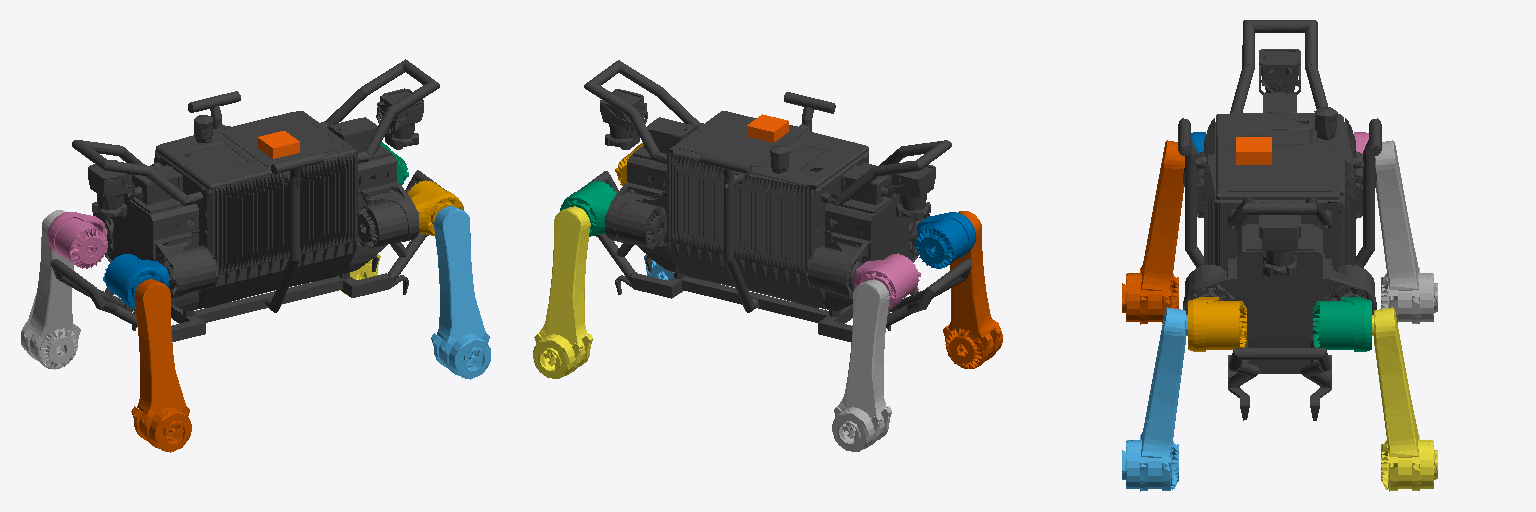
--- Render facts (derived) ---
Views: 3 orthographic renders of the robot side by side, from view 1: azimuth 30°, elevation 25°; view 2: azimuth 150°, elevation 25°; view 3: azimuth 270°, elevation 25°.
Robot: anymal — 27 links, 26 joints (12 revolute, 14 fixed); root link base; default pose: all joints at 0.
Visible links, largest first — view 1: base, RH_THIGH, RF_THIGH, LH_THIGH, LH_HIP, RH_HIP, RF_HIP, imu_link; view 2: base, LH_THIGH, LF_THIGH, RH_THIGH, RH_HIP, LH_HIP, LF_HIP, imu_link; view 3: base, LF_THIGH, RF_THIGH, LH_THIGH, RH_THIGH, LF_HIP, RF_HIP, imu_link.
Link boxes in pixels (x1,y1,x2,y2): base: (51,59,446,341); RH_THIGH: (131,279,191,452); RF_THIGH: (431,206,490,379); LH_THIGH: (21,210,80,369); LH_HIP: (47,212,107,268); RH_HIP: (103,253,168,308); RF_HIP: (408,180,463,235); imu_link: (258,131,299,158); base: (578,60,971,341); LH_THIGH: (832,279,891,451); LF_THIGH: (533,206,592,378); RH_THIGH: (943,211,1002,368); RH_HIP: (916,212,975,268); LH_HIP: (854,253,920,309); LF_HIP: (560,181,616,236); imu_link: (747,114,788,142); base: (1178,20,1381,420); LF_THIGH: (1372,307,1437,491); RF_THIGH: (1122,307,1187,491); LH_THIGH: (1375,140,1437,323); RH_THIGH: (1122,140,1184,324); LF_HIP: (1313,297,1371,351); RF_HIP: (1188,297,1246,351); imu_link: (1236,137,1271,164).
Size in the robot's own frame: 0.7961 by 0.5152 by 0.5261 metres.
9 mesh visuals loaded from 8 distinct referenced files (3 Collada DAE); not drawn: 8 (reference not matched to a file when rendering).

The robot description file, URDF, robot "anymal":
<?xml version="1.0" ?>
<!-- =================================================================================== -->
<!-- |    This document was autogenerated by xacro from [local-path]/catkin_ws/src/anymal_beth/anymal_beth_description/urdf/anymal_beth.urdf.xacro | -->
<!-- |    EDITING THIS FILE BY HAND IS NOT RECOMMENDED                                 | -->
<!-- =================================================================================== -->
<!--Copyright (C) 2015 by Dario Bellicoso                                    -->
<[email redacted]                                                 -->
<!--                                                                         -->
<!--This program is free software; you can redistribute it and/or modify     -->
<!--it under the terms of the Lesser GNU General Public License as published -->
<!--by the Free Software Foundation; either version 3 of the License, or     -->
<!--(at your option) any later version.                                      -->
<!--                                                                         -->
<!--This program is distributed in the hope that it will be useful,          -->
<!--but WITHOUT ANY WARRANTY; without even the implied warranty of           -->
<!--MERCHANTABILITY or FITNESS FOR A PARTICULAR PURPOSE. See the             -->
<!--Lesser GNU General Public License for more details.                      -->
<!--                                                                         -->
<!--You should have received a copy of the Lesser GNU General Public License -->
<!--along with this program. If not, see <http://www.gnu.org/licenses/>.     -->
<!-- This file contains the description of the ANYmal Beth robot. -->
<robot name="anymal" xmlns:xacro="http://www.ros.org/wiki/xacro">
    <material name="black">
        <color rgba="0.0 0.0 0.0 1.0"/>
    </material>
    <material name="blue">
        <color rgba="0.0 0.0 0.8 1.0"/>
    </material>
    <material name="green">
        <color rgba="0.0 0.8 0.0 1.0"/>
    </material>
    <material name="grey">
        <color rgba="0.2 0.2 0.2 1.0"/>
    </material>
    <material name="light_grey">
        <color rgba="0.4 0.4 0.4 1.0"/>
    </material>
    <material name="orange">
        <color rgba="1.0 0.423529411765 0.0392156862745 1.0"/>
    </material>
    <material name="brown">
        <color rgba="0.870588235294 0.811764705882 0.764705882353 1.0"/>
    </material>
    <material name="red">
        <color rgba="0.8 0.0 0.0 1.0"/>
    </material>
    <material name="white">
        <color rgba="1.0 1.0 1.0 1.0"/>
    </material>
    <gazebo>
        <plugin filename="libanymal_gazebo.so" name="gazebo_ros_control">
            <robotNamespace>anymal</robotNamespace>
            <!-- Currently unused -->
            <robotDescription>quadruped_description</robotDescription>
            <robotBaseLink>base</robotBaseLink>
            <statePublisherRate>400.0</statePublisherRate>
        </plugin>
    </gazebo>
    <!-- Material for the visual primitives -->
    <material name="anymal_material">
        <color rgba="0.3 0.3 0.3 0"/>
    </material>
    <!-- Xacro:Properties -->
    <!-- [m] -->
    <!-- Base link -->
    <link name="base">
        <visual>
            <origin rpy="0 0 0" xyz="0 0 0"/>
            <geometry>
                <mesh filename="anymal_base_2.dae" scale="0.001 0.001     0.001"/>
            </geometry>
            <material name="anymal_material"/>
        </visual>
        <collision>
            <!-- Main Body -->
            <origin rpy="0 0 0" xyz="0 0 0.08"/>
            <geometry>
                <box size="0.531 0.232 0.26"/>
            </geometry>
        </collision>
    </link>
    <!-- Fixed joint to add dummy inertia link -->
    <joint name="base_to_base_inertia" type="fixed">
        <parent link="base"/>
        <child link="base_inertia"/>
        <origin rpy="0 0 0" xyz="0 0 0"/>
    </joint>
    <!-- Dummy inertia link, because KDL cannot have inertia on the base link -->
    <link name="base_inertia">
        <inertial>
            <origin rpy="0 0 0" xyz="0.022 -0.01 0.01"/>
            <mass value="21.39"/>
            <inertia ixx="0.268388530624" ixy="0.000775392455422" ixz="-0.0151848534451" iyy="0.884235660795" iyz="-0.000989297489507" izz="0.829158678306"/>
        </inertial>
    </link>
    <!-- Xacro:Properties -->
    <!-- [m] -->
    <!-- [Nm] -->
    <link name="LF_HIP">
        <visual>
            <origin rpy="3.14159265359 1.5707963268 3.14159265359" xyz="0 0 0"/>
            <geometry>
                <mesh filename="anymal_hip.dae" scale="0.001 0.001     0.001"/>
            </geometry>
        </visual>
        <collision>
            <origin rpy="1.57079632679 0 0" xyz="0.0585 0.0315 0.0"/>
            <geometry>
                <cylinder length="0.08" radius="0.04"/>
            </geometry>
        </collision>
        <inertial>
            <origin rpy="0 0 0" xyz="0.0542 -0.0136 0.0"/>
            <mass value="1.1064"/>
            <inertia ixx="0.00123301508523" ixy="-6.4285329973e-05" ixz="6.9990104e-08" iyy="0.000993231183395" iyz="2.327401345e-06" izz="0.00142160349098"/>
        </inertial>
    </link>
    <!-- Hip joint -->
    <joint name="LF_HAA" type="revolute">
        <parent link="base"/>
        <child link="LF_HIP"/>
        <origin xyz="0.2629 0.115 0.0"/>
        <axis xyz="1 0 0"/>
        <limit effort="80" lower="-6.28" upper="6.28" velocity="15"/>
        <dynamics damping="0.0" friction="0.0"/>
    </joint>
    <!-- Xacro:Properties -->
    <!-- [m] -->
    <!-- [Nm] -->
    <link name="LF_THIGH">
        <visual>
            <origin rpy="0 0 0" xyz="0 0 0"/>
            <geometry>
                <mesh filename="anymal_thigh.dae" scale="0.001 0.001     0.001"/>
            </geometry>
        </visual>
        <!--collision>
            <origin rpy="0.145 0 0" xyz="0 0.02 -0.1"/>
            <geometry>
                <cylinder length="0.2" radius="0.01"/>
            </geometry>
        </collision-->
        <collision>
            <origin rpy="1.57079632679 0 0" xyz="0.0 0.07 -0.25"/>
            <geometry>
                <cylinder length="0.08" radius="0.04"/>
            </geometry>
        </collision>
        <inertial>
            <origin rpy="0 0 0" xyz="0.0008 0.0545 -0.1975"/>
            <mass value="1.51"/>
            <inertia ixx="0.0147571628275" ixy="-1.7996507882e-05" ixz="0.000205877679383" iyy="0.0144188925719" iyz="-0.00181291342366" izz="0.00178449075964"/>
        </inertial>
    </link>
    <!-- Thigh joint -->
    <joint name="LF_HFE" type="revolute">
        <parent link="LF_HIP"/>
        <child link="LF_THIGH"/>
        <origin xyz="0.0585                    0.0315                    0.0"/>
        <axis xyz="0 1 0"/>
        <limit effort="80" lower="-6.28" upper="6.28" velocity="15"/>
        <dynamics damping="0.0" friction="0.0"/>
    </joint>
    <!-- Xacro:Properties -->
    <!-- [m] -->
    <!-- [Nm] -->
    <link name="LF_SHANK">
        <visual>
            <origin rpy="0 0 0.0" xyz="0 0 0"/>
            <geometry>
                <mesh filename="anymal_shank_2_LF.dae" scale="0.001 0.001     0.001"/>
            </geometry>
        </visual>
        <!--collision>
            <origin rpy="0 -0.9 -0.2" xyz="0.04 -0.02 -0.04"/>
            <geometry>
                <cylinder length="0.13" radius="0.015"/>
            </geometry>
        </collision-->
        <collision>
            <origin rpy="-0.0 0.34 0" xyz="0.06 -0.03 -0.18"/>
            <geometry>
                <cylinder length="0.19" radius="0.015"/>
            </geometry>
        </collision>
        <inertial>
            <origin rpy="0 0 0" xyz="0.016355414056 -0.00562219106 -0.064350437219"/>
            <mass value="0.318"/>
            <inertia ixx="0.0037693717909" ixy="-7.7334500762e-05" ixz="-0.000152069372983" iyy="0.00400446467635" iyz="-0.0003218356083" izz="0.000418471691904"/>
        </inertial>
    </link>
    <!-- Shank joint -->
    <joint name="LF_KFE" type="revolute">
        <parent link="LF_THIGH"/>
        <child link="LF_SHANK"/>
        <origin xyz="0.0 0.111 -0.25"/>
        <axis xyz="0 1 0"/>
        <limit effort="80" lower="-6.28" upper="6.28" velocity="15"/>
        <dynamics damping="0.0" friction="0.0"/>
    </joint>
    <!-- Foot mount link -->
    <link name="LF_FOOT_MOUNT"/>
    <!-- Foot mount joint / ankle -->
    <joint name="LF_ANKLE_JOINT" type="fixed">
        <parent link="LF_SHANK"/>
        <child link="LF_FOOT_MOUNT"/>
        <origin rpy="0.323 0.549 0" xyz="0.0 -0.016 -0.31"/>
    </joint>
    <!-- Xacro:Properties -->
    <!-- [m] -->
    <link name="LF_FOOT_SENSOR">
        <visual>
            <origin rpy="0 0 0" xyz="0 0 0"/>
            <geometry>
                <mesh filename="anymal_optoforce.dae" scale="0.001 0.001     0.001"/>
            </geometry>
        </visual>
        <collision>
            <origin rpy="0 0 0" xyz="0.0 0.0 0"/>
            <geometry>
                <sphere radius="0.03"/>
            </geometry>
        </collision>
        <inertial>
            <origin rpy="0 0 0" xyz="-5.552058e-06 7.1133124e-05 -0.021388647779"/>
            <mass value="0.1922685"/>
            <inertia ixx="8.3086410294e-05" ixy="4.16901601e-07" ixz="3.99054799e-07" iyy="8.2860209667e-05" iyz="-3.45712252e-07" izz="8.1948124086e-05"/>
        </inertial>
    </link>
    <!-- Foot sensor joint -->
    <joint name="LF_MOUNT_TO_SENSOR" type="fixed">
        <parent link="LF_FOOT_MOUNT"/>
        <child link="LF_FOOT_SENSOR"/>
        <origin rpy="0 0 0" xyz="0 0 0"/>
    </joint>
    <!-- Gazebo customization -->
    <gazebo reference="LF_FOOT_SENSOR">
        <kp>1000000.0</kp>
        <kd>100.0</kd>
        <mu1>0.8</mu1>
        <mu2>0.8</mu2>
    </gazebo>
    <gazebo reference="LF_MOUNT_TO_SENSOR"/>
    <!-- Foot link -->
    <link name="LF_FOOT">
    </link>
    <!-- Foot joint -->
    <joint name="LF_SENSOR_TO_FOOT" type="fixed">
        <parent link="LF_FOOT_SENSOR"/>
        <child link="LF_FOOT"/>
        <origin rpy="0 0 0" xyz="0.0 0.0 -0.0385"/>
    </joint>
    <!-- Xacro:Properties -->
    <!-- [m] -->
    <!-- [Nm] -->
    <link name="RF_HIP">
        <visual>
            <origin rpy="0 -1.57079632679 3.14159265359" xyz="0 0 0"/>
            <geometry>
                <mesh filename="anymal_hip.dae" scale="0.001 0.001     0.001"/>
            </geometry>
        </visual>
        <collision>
            <origin rpy="1.57079632679 0 0" xyz="0.0585 -0.0315 0.0"/>
            <geometry>
                <cylinder length="0.08" radius="0.04"/>
            </geometry>
        </collision>
        <inertial>
            <origin rpy="0 0 0" xyz="0.0542 0.0136 0.0"/>
            <mass value="1.1064"/>
            <inertia ixx="0.00123301508523" ixy="6.4285329973e-05" ixz="6.9990104e-08" iyy="0.000993231183395" iyz="-2.327401345e-06" izz="0.00142160349098"/>
        </inertial>
    </link>
    <!-- Hip joint -->
    <joint name="RF_HAA" type="revolute">
        <parent link="base"/>
        <child link="RF_HIP"/>
        <origin xyz="0.2629 -0.115 0.0"/>
        <axis xyz="1 0 0"/>
        <limit effort="80" lower="-6.28" upper="6.28" velocity="15"/>
        <dynamics damping="0.0" friction="0.0"/>
    </joint>
    <!-- Xacro:Properties -->
    <!-- [m] -->
    <!-- [Nm] -->
    <link name="RF_THIGH">
        <visual>
            <origin rpy="0 0 3.14159265359" xyz="0 0 0"/>
            <geometry>
                <mesh filename="anymal_thigh.dae" scale="0.001 0.001     0.001"/>
            </geometry>
        </visual>
        <!--collision>
            <origin rpy="-0.145 0 0" xyz="0 -0.02 -0.1"/>
            <geometry>
                <cylinder length="0.2" radius="0.01"/>
            </geometry>
        </collision-->
        <collision>
            <origin rpy="1.57079632679 0 0" xyz="0.0 -0.07 -0.25"/>
            <geometry>
                <cylinder length="0.08" radius="0.04"/>
            </geometry>
        </collision>
        <inertial>
            <origin rpy="0 0 0" xyz="0.0008 -0.0545 -0.1975"/>
            <mass value="1.51"/>
            <inertia ixx="0.0147571628275" ixy="1.7996507882e-05" ixz="0.000205877679383" iyy="0.0144188925719" iyz="0.00181291342366" izz="0.00178449075964"/>
        </inertial>
    </link>
    <!-- Thigh joint -->
    <joint name="RF_HFE" type="revolute">
        <parent link="RF_HIP"/>
        <child link="RF_THIGH"/>
        <origin xyz="0.0585                    -0.0315                    0.0"/>
        <axis xyz="0 1 0"/>
        <limit effort="80" lower="-6.28" upper="6.28" velocity="15"/>
        <dynamics damping="0.0" friction="0.0"/>
    </joint>
    <!-- Xacro:Properties -->
    <!-- [m] -->
    <!-- [Nm] -->
    <link name="RF_SHANK">
        <visual>
            <origin rpy="3.14159265359 3.14159265359 3.14159265359" xyz="0 0 0"/>
            <geometry>
                <mesh filename="anymal_shank_2_RF.dae" scale="0.001 0.001     0.001"/>
            </geometry>
        </visual>
        <!--collision>
            <origin rpy="0 -0.9 0.2" xyz="0.04 0.02 -0.04"/>
            <geometry>
                <cylinder length="0.13" radius="0.015"/>
            </geometry>
        </collision-->
        <collision>
            <origin rpy="0.0 0.34 0" xyz="0.06 0.03 -0.18"/>
            <geometry>
                <cylinder length="0.19" radius="0.015"/>
            </geometry>
        </collision>
        <inertial>
            <origin rpy="0 0 0" xyz="0.016355414056 0.00562219106 -0.064350437219"/>
            <mass value="0.318"/>
            <inertia ixx="0.0037693717909" ixy="7.7334500762e-05" ixz="-0.000152069372983" iyy="0.00400446467635" iyz="0.0003218356083" izz="0.000418471691904"/>
        </inertial>
    </link>
    <!-- Shank joint -->
    <joint name="RF_KFE" type="revolute">
        <parent link="RF_THIGH"/>
        <child link="RF_SHANK"/>
        <origin xyz="0.0 -0.111 -0.25"/>
        <axis xyz="0 1 0"/>
        <limit effort="80" lower="-6.28" upper="6.28" velocity="15"/>
        <dynamics damping="0.0" friction="0.0"/>
    </joint>
    <!-- Foot mount link -->
    <link name="RF_FOOT_MOUNT"/>
    <!-- Foot mount joint / ankle -->
    <joint name="RF_ANKLE_JOINT" type="fixed">
        <parent link="RF_SHANK"/>
        <child link="RF_FOOT_MOUNT"/>
        <origin rpy="-0.323 0.549 0" xyz="0.0 0.016 -0.31"/>
    </joint>
    <!-- Xacro:Properties -->
    <!-- [m] -->
    <link name="RF_FOOT_SENSOR">
        <visual>
            <origin rpy="0 0 0" xyz="0 0 0"/>
            <geometry>
                <mesh filename="anymal_optoforce.dae" scale="0.001 0.001     0.001"/>
            </geometry>
        </visual>
        <collision>
            <origin rpy="0 0 0" xyz="0.0 0.0 0"/>
            <geometry>
                <sphere radius="0.03"/>
            </geometry>
        </collision>
        <inertial>
            <origin rpy="0 0 0" xyz="-5.552058e-06 -7.1133124e-05 -0.021388647779"/>
            <mass value="0.1922685"/>
            <inertia ixx="8.3086410294e-05" ixy="-4.16901601e-07" ixz="3.99054799e-07" iyy="8.2860209667e-05" iyz="3.45712252e-07" izz="8.1948124086e-05"/>
        </inertial>
    </link>
    <!-- Foot sensor joint -->
    <joint name="RF_MOUNT_TO_SENSOR" type="fixed">
        <parent link="RF_FOOT_MOUNT"/>
        <child link="RF_FOOT_SENSOR"/>
        <origin rpy="0 0 0" xyz="0 0 0"/>
    </joint>
    <!-- Gazebo customization -->
    <gazebo reference="RF_FOOT_SENSOR">
        <kp>1000000.0</kp>
        <kd>100.0</kd>
        <mu1>0.8</mu1>
        <mu2>0.8</mu2>
    </gazebo>
    <gazebo reference="RF_MOUNT_TO_SENSOR"/>
    <!-- Foot link -->
    <link name="RF_FOOT">
    </link>
    <!-- Foot joint -->
    <joint name="RF_SENSOR_TO_FOOT" type="fixed">
        <parent link="RF_FOOT_SENSOR"/>
        <child link="RF_FOOT"/>
        <origin rpy="0 0 0" xyz="0.0 0.0 -0.0385"/>
    </joint>
    <!-- Xacro:Properties -->
    <!-- [m] -->
    <!-- [Nm] -->
    <link name="LH_HIP">
        <visual>
            <origin rpy="0 -1.5707963268 0" xyz="0 0 0"/>
            <geometry>
                <mesh filename="anymal_hip.dae" scale="0.001 0.001     0.001"/>
            </geometry>
        </visual>
        <collision>
            <origin rpy="-1.57079632679 0 0" xyz="-0.0585 0.0315 0.0"/>
            <geometry>
                <cylinder length="0.08" radius="0.04"/>
            </geometry>
        </collision>
        <inertial>
            <origin rpy="0 0 0" xyz="-0.0542 -0.0136 0.0"/>
            <mass value="1.1064"/>
            <inertia ixx="0.00123301508523" ixy="6.4285329973e-05" ixz="-6.9990104e-08" iyy="0.000993231183395" iyz="2.327401345e-06" izz="0.00142160349098"/>
        </inertial>
    </link>
    <!-- Hip joint -->
    <joint name="LH_HAA" type="revolute">
        <parent link="base"/>
        <child link="LH_HIP"/>
        <origin xyz="-0.2629 0.115 0.0"/>
        <axis xyz="1 0 0"/>
        <limit effort="80" lower="-6.28" upper="6.28" velocity="15"/>
        <dynamics damping="0.0" friction="0.0"/>
    </joint>
    <!-- Xacro:Properties -->
    <!-- [m] -->
    <!-- [Nm] -->
    <link name="LH_THIGH">
        <visual>
            <origin rpy="0 0 0" xyz="0 0 0"/>
            <geometry>
                <mesh filename="anymal_thigh.dae" scale="0.001 0.001     0.001"/>
            </geometry>
        </visual>
        <!--collision>
            <origin rpy="0.145 0 0" xyz="0 0.02 -0.1"/>
            <geometry>
                <cylinder length="0.2" radius="0.01"/>
            </geometry>
        </collision-->
        <collision>
            <origin rpy="1.57079632679 0 0" xyz="0.0 0.07 -0.25"/>
            <geometry>
                <cylinder length="0.08" radius="0.04"/>
            </geometry>
        </collision>
        <inertial>
            <origin rpy="0 0 0" xyz="-0.0008 0.0545 -0.1975"/>
            <mass value="1.51"/>
            <inertia ixx="0.0147571628275" ixy="1.7996507882e-05" ixz="-0.000205877679383" iyy="0.0144188925719" iyz="-0.00181291342366" izz="0.00178449075964"/>
        </inertial>
    </link>
    <!-- Thigh joint -->
    <joint name="LH_HFE" type="revolute">
        <parent link="LH_HIP"/>
        <child link="LH_THIGH"/>
        <origin xyz="-0.0585                    0.0315                    0.0"/>
        <axis xyz="0 1 0"/>
        <limit effort="80" lower="-6.28" upper="6.28" velocity="15"/>
        <dynamics damping="0.0" friction="0.0"/>
    </joint>
    <!-- Xacro:Properties -->
    <!-- [m] -->
    <!-- [Nm] -->
    <link name="LH_SHANK">
        <visual>
            <origin rpy="0 0 0" xyz="0 0 0"/>
            <geometry>
                <mesh filename="anymal_shank_2_LH.dae" scale="0.001 0.001     0.001"/>
            </geometry>
        </visual>
        <!--collision>
            <origin rpy="0 0.9 0.2" xyz="-0.04 -0.02 -0.04"/>
            <geometry>
                <cylinder length="0.13" radius="0.015"/>
            </geometry>
        </collision-->
        <collision>
            <origin rpy="-0.0 -0.34 0" xyz="-0.06 -0.03 -0.18"/>
            <geometry>
                <cylinder length="0.19" radius="0.015"/>
            </geometry>
        </collision>
        <inertial>
            <origin rpy="0 0 0" xyz="-0.016355414056 -0.00562219106 -0.064350437219"/>
            <mass value="0.318"/>
            <inertia ixx="0.0037693717909" ixy="7.7334500762e-05" ixz="0.000152069372983" iyy="0.00400446467635" iyz="-0.0003218356083" izz="0.000418471691904"/>
        </inertial>
    </link>
    <!-- Shank joint -->
    <joint name="LH_KFE" type="revolute">
        <parent link="LH_THIGH"/>
        <child link="LH_SHANK"/>
        <origin xyz="-0.0 0.111 -0.25"/>
        <axis xyz="0 1 0"/>
        <limit effort="80" lower="-6.28" upper="6.28" velocity="15"/>
        <dynamics damping="0.0" friction="0.0"/>
    </joint>
    <!-- Foot mount link -->
    <link name="LH_FOOT_MOUNT"/>
    <!-- Foot mount joint / ankle -->
    <joint name="LH_ANKLE_JOINT" type="fixed">
        <parent link="LH_SHANK"/>
        <child link="LH_FOOT_MOUNT"/>
        <origin rpy="0.323 -0.549 0" xyz="-0.0 -0.016 -0.31"/>
    </joint>
    <!-- Xacro:Properties -->
    <!-- [m] -->
    <link name="LH_FOOT_SENSOR">
        <visual>
            <origin rpy="0 0 0" xyz="0 0 0"/>
            <geometry>
                <mesh filename="anymal_optoforce.dae" scale="0.001 0.001     0.001"/>
            </geometry>
        </visual>
        <collision>
            <origin rpy="0 0 0" xyz="0.0 0.0 0"/>
            <geometry>
                <sphere radius="0.03"/>
            </geometry>
        </collision>
        <inertial>
            <origin rpy="0 0 0" xyz="5.552058e-06 7.1133124e-05 -0.021388647779"/>
            <mass value="0.1922685"/>
            <inertia ixx="8.3086410294e-05" ixy="-4.16901601e-07" ixz="-3.99054799e-07" iyy="8.2860209667e-05" iyz="-3.45712252e-07" izz="8.1948124086e-05"/>
        </inertial>
    </link>
    <!-- Foot sensor joint -->
    <joint name="LH_MOUNT_TO_SENSOR" type="fixed">
        <parent link="LH_FOOT_MOUNT"/>
        <child link="LH_FOOT_SENSOR"/>
        <origin rpy="0 0 0" xyz="0 0 0"/>
    </joint>
    <!-- Gazebo customization -->
    <gazebo reference="LH_FOOT_SENSOR">
        <kp>1000000.0</kp>
        <kd>100.0</kd>
        <mu1>0.8</mu1>
        <mu2>0.8</mu2>
    </gazebo>
    <gazebo reference="LH_MOUNT_TO_SENSOR"/>
    <!-- Foot link -->
    <link name="LH_FOOT">
    </link>
    <!-- Foot joint -->
    <joint name="LH_SENSOR_TO_FOOT" type="fixed">
        <parent link="LH_FOOT_SENSOR"/>
        <child link="LH_FOOT"/>
        <origin rpy="0 0 0" xyz="0.0 0.0 -0.0385"/>
    </joint>
    <!-- Xacro:Properties -->
    <!-- [m] -->
    <!-- [Nm] -->
    <link name="RH_HIP">
        <visual>
            <origin rpy="1.5707963268 1.5707963268 -1.5707963268" xyz="0 0 0"/>
            <geometry>
                <mesh filename="anymal_hip.dae" scale="0.001 0.001     0.001"/>
            </geometry>
        </visual>
        <collision>
            <origin rpy="-1.57079632679 0 0" xyz="-0.0585 -0.0315 0.0"/>
            <geometry>
                <cylinder length="0.08" radius="0.04"/>
            </geometry>
        </collision>
        <inertial>
            <origin rpy="0 0 0" xyz="-0.0542 0.0136 0.0"/>
            <mass value="1.1064"/>
            <inertia ixx="0.00123301508523" ixy="-6.4285329973e-05" ixz="-6.9990104e-08" iyy="0.000993231183395" iyz="-2.327401345e-06" izz="0.00142160349098"/>
        </inertial>
    </link>
    <!-- Hip joint -->
    <joint name="RH_HAA" type="revolute">
        <parent link="base"/>
        <child link="RH_HIP"/>
        <origin xyz="-0.2629 -0.115 0.0"/>
        <axis xyz="1 0 0"/>
        <limit effort="80" lower="-6.28" upper="6.28" velocity="15"/>
        <dynamics damping="0.0" friction="0.0"/>
    </joint>
    <!-- Xacro:Properties -->
    <!-- [m] -->
    <!-- [Nm] -->
    <link name="RH_THIGH">
        <visual>
            <origin rpy="0 0 3.14159265359" xyz="0 0 0"/>
            <geometry>
                <mesh filename="anymal_thigh.dae" scale="0.001 0.001     0.001"/>
            </geometry>
        </visual>
        <!--collision>
            <origin rpy="-0.145 0 0" xyz="0 -0.02 -0.1"/>
            <geometry>
                <cylinder length="0.2" radius="0.01"/>
            </geometry>
        </collision-->
        <collision>
            <origin rpy="1.57079632679 0 0" xyz="0.0 -0.07 -0.25"/>
            <geometry>
                <cylinder length="0.08" radius="0.04"/>
            </geometry>
        </collision>
        <inertial>
            <origin rpy="0 0 0" xyz="-0.0008 -0.0545 -0.1975"/>
            <mass value="1.51"/>
            <inertia ixx="0.0147571628275" ixy="-1.7996507882e-05" ixz="-0.000205877679383" iyy="0.0144188925719" iyz="0.00181291342366" izz="0.00178449075964"/>
        </inertial>
    </link>
    <!-- Thigh joint -->
    <joint name="RH_HFE" type="revolute">
        <parent link="RH_HIP"/>
        <child link="RH_THIGH"/>
        <origin xyz="-0.0585                    -0.0315                    0.0"/>
        <axis xyz="0 1 0"/>
        <limit effort="80" lower="-6.28" upper="6.28" velocity="15"/>
        <dynamics damping="0.0" friction="0.0"/>
    </joint>
    <!-- Xacro:Properties -->
    <!-- [m] -->
    <!-- [Nm] -->
    <link name="RH_SHANK">
        <visual>
            <origin rpy="0 0 0" xyz="0 0 0"/>
            <geometry>
                <mesh filename="anymal_shank_2_RH.dae" scale="0.001 0.001     0.001"/>
            </geometry>
        </visual>
        <!--collision>
            <origin rpy="0 0.9 -0.2" xyz="-0.04 0.02 -0.04"/>
            <geometry>
                <cylinder length="0.13" radius="0.015"/>
            </geometry>
        </collision-->
        <collision>
            <origin rpy="0.0 -0.34 0" xyz="-0.06 0.03 -0.18"/>
            <geometry>
                <cylinder length="0.19" radius="0.015"/>
            </geometry>
        </collision>
        <inertial>
            <origin rpy="0 0 0" xyz="-0.016355414056 0.00562219106 -0.064350437219"/>
            <mass value="0.318"/>
            <inertia ixx="0.0037693717909" ixy="-7.7334500762e-05" ixz="0.000152069372983" iyy="0.00400446467635" iyz="0.0003218356083" izz="0.000418471691904"/>
        </inertial>
    </link>
    <!-- Shank joint -->
    <joint name="RH_KFE" type="revolute">
        <parent link="RH_THIGH"/>
        <child link="RH_SHANK"/>
        <origin xyz="-0.0 -0.111 -0.25"/>
        <axis xyz="0 1 0"/>
        <limit effort="80" lower="-6.28" upper="6.28" velocity="15"/>
        <dynamics damping="0.0" friction="0.0"/>
    </joint>
    <!-- Foot mount link -->
    <link name="RH_FOOT_MOUNT"/>
    <!-- Foot mount joint / ankle -->
    <joint name="RH_ANKLE_JOINT" type="fixed">
        <parent link="RH_SHANK"/>
        <child link="RH_FOOT_MOUNT"/>
        <origin rpy="-0.323 -0.549 0" xyz="-0.0 0.016 -0.31"/>
    </joint>
    <!-- Xacro:Properties -->
    <!-- [m] -->
    <link name="RH_FOOT_SENSOR">
        <visual>
            <origin rpy="0 0 0" xyz="0 0 0"/>
            <geometry>
                <mesh filename="anymal_optoforce.dae" scale="0.001 0.001     0.001"/>
            </geometry>
        </visual>
        <collision>
            <origin rpy="0 0 0" xyz="0.0 0.0 0"/>
            <geometry>
                <sphere radius="0.03"/>
            </geometry>
        </collision>
        <inertial>
            <origin rpy="0 0 0" xyz="5.552058e-06 -7.1133124e-05 -0.021388647779"/>
            <mass value="0.1922685"/>
            <inertia ixx="8.3086410294e-05" ixy="4.16901601e-07" ixz="-3.99054799e-07" iyy="8.2860209667e-05" iyz="3.45712252e-07" izz="8.1948124086e-05"/>
        </inertial>
    </link>
    <!-- Foot sensor joint -->
    <joint name="RH_MOUNT_TO_SENSOR" type="fixed">
        <parent link="RH_FOOT_MOUNT"/>
        <child link="RH_FOOT_SENSOR"/>
        <origin rpy="0 0 0" xyz="0 0 0"/>
    </joint>
    <!-- Gazebo customization -->
    <gazebo reference="RH_FOOT_SENSOR">
        <kp>1000000.0</kp>
        <kd>100.0</kd>
        <mu1>0.8</mu1>
        <mu2>0.8</mu2>
    </gazebo>
    <gazebo reference="RH_MOUNT_TO_SENSOR"/>
    <!-- Foot link -->
    <link name="RH_FOOT">
    </link>
    <!-- Foot joint -->
    <joint name="RH_SENSOR_TO_FOOT" type="fixed">
        <parent link="RH_FOOT_SENSOR"/>
        <child link="RH_FOOT"/>
        <origin rpy="0 0 0" xyz="0.0 0.0 -0.0385"/>
    </joint>
    <link name="imu_link">
        <visual>
            <origin rpy="0 0 0" xyz="0 0 0.011"/>
            <geometry>
                <box size="0.058 0.058 0.022"/>
            </geometry>
            <material name="orange"/>
        </visual>
        <collision>
            <origin rpy="0 0 0" xyz="0 0 0.011"/>
            <geometry>
                <box size="0.058 0.058 0.022"/>
            </geometry>
        </collision>
        <inertial>
            <mass value="0.05"/>
            <origin xyz="0 0 0"/>
            <inertia ixx="1.60333333333e-05" ixy="0.0" ixz="0.0" iyy="2.80333333333e-05" iyz="0.0" izz="1.60333333333e-05"/>
        </inertial>
    </link>
    <joint name="imu_joint" type="fixed">
        <parent link="base"/>
        <child link="imu_link"/>
        <origin rpy="3.14159265359 0 0" xyz="0.0245 -0.04255 0.1857"/>
    </joint>
    <gazebo reference="imu_link">
        <material>Gazebo/Orange</material>
        <mu1>0.8</mu1>
        <mu2>0.8</mu2>
    </gazebo>
    <gazebo reference="imu_joint">
    </gazebo>
    <gazebo>
        <plugin filename="libhector_gazebo_ros_imu.so" name="imu_plugin">
            <robotNamespace>sensors</robotNamespace>
            <bodyName>imu_link</bodyName>
            <frameId>/imu_link</frameId>
            <topicName>imu</topicName>
            <biasTopicName>imu/bias</biasTopicName>
            <serviceName>imu/calibrate</serviceName>
            <updateRate>400</updateRate>
        </plugin>
    </gazebo>
</robot>
